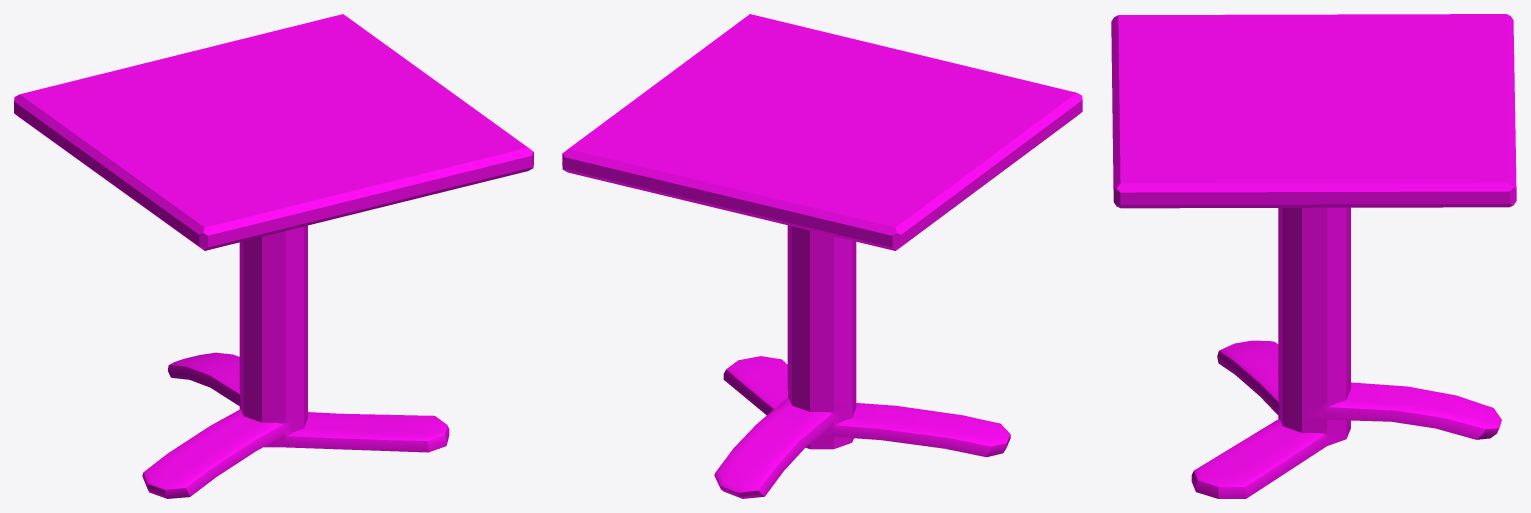
The model's file is table 1 var 2.fbx.
3 renders of one model, left to right at view 1: azimuth 30°, elevation 25°; view 2: azimuth 150°, elevation 25°; view 3: azimuth 270°, elevation 25°, orthographic. The views are drawn at different scales.
Parts seen in each view (by area): view 1: table_1_var_2; view 2: table_1_var_2; view 3: table_1_var_2.
Boxes of the visible parts, x1,y1,x2,y2 form: table_1_var_2: (14,14,533,498); table_1_var_2: (562,14,1082,498); table_1_var_2: (1111,14,1516,498).
Bounding box in the file's own units: 0.8805 × 0.7824 × 0.8603.
